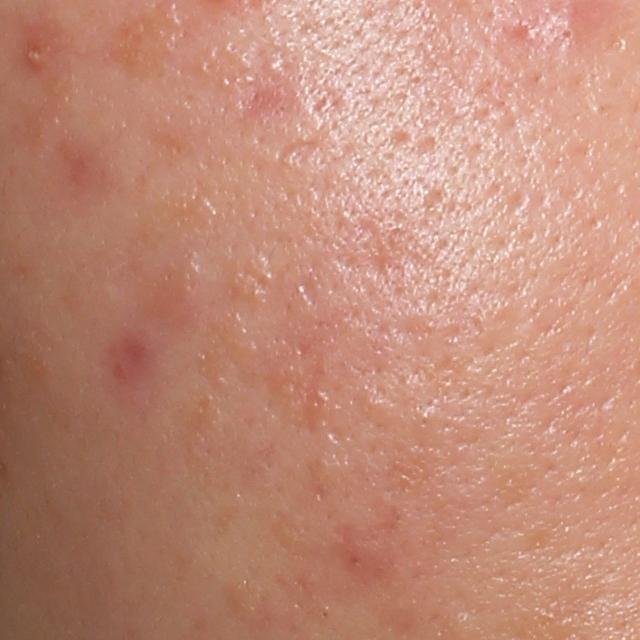papule: (25, 40, 46, 68)
